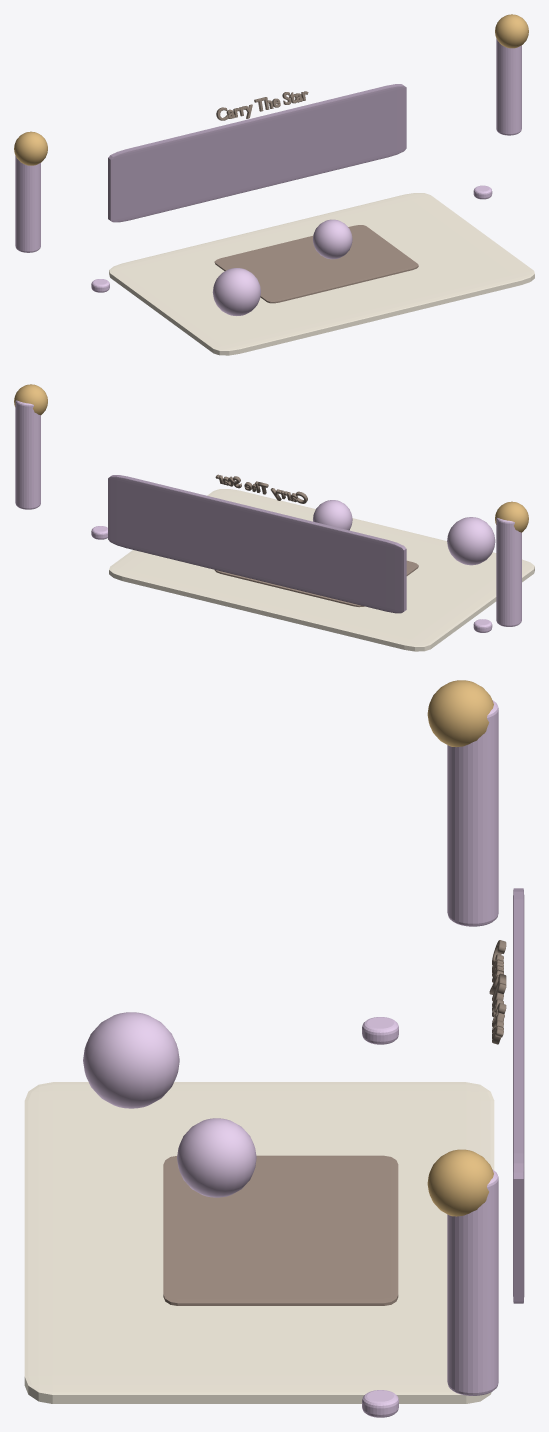
The model's file is 09_holdables.glb.
The picture shows the model from 3 angles, top to bottom: view 1: azimuth 30°, elevation 25°; view 2: azimuth 150°, elevation 25°; view 3: azimuth 270°, elevation 25°; orthographic projection. The views are drawn at different scales.
Parts seen in each view (by area): view 1: PaperFloor-col, BackCard, StageMat, PaperLantern, PaperLantern.001, FpeRushPlayer, CarryStar-rigid, LanternGlow, LanternGlow.001, TitleLabel; view 2: BackCard, PaperFloor-col, PaperLantern.001, PaperLantern, FpeRushPlayer, CarryStar-rigid, TitleLabel, LanternGlow, LanternGlow.001, StageMat; view 3: PaperFloor-col, StageMat, PaperLantern, PaperLantern.001, FpeRushPlayer, CarryStar-rigid, BackCard, LanternGlow.001, LanternGlow, TitleLabel, CardConfetti, CardConfetti.001.
Boxes of the visible parts, bbox=[...] form: PaperFloor-col: bbox=[109, 193, 534, 355]; BackCard: bbox=[108, 84, 406, 222]; StageMat: bbox=[214, 225, 418, 303]; PaperLantern: bbox=[15, 155, 40, 252]; PaperLantern.001: bbox=[496, 38, 521, 135]; FpeRushPlayer: bbox=[212, 268, 260, 315]; CarryStar-rigid: bbox=[313, 219, 352, 259]; LanternGlow: bbox=[14, 131, 47, 165]; LanternGlow.001: bbox=[495, 14, 528, 48]; TitleLabel: bbox=[216, 91, 308, 120]; BackCard: bbox=[108, 475, 406, 613]; PaperFloor-col: bbox=[109, 489, 534, 651]; PaperLantern.001: bbox=[15, 400, 40, 509]; PaperLantern: bbox=[496, 518, 521, 626]; FpeRushPlayer: bbox=[447, 517, 495, 565]; CarryStar-rigid: bbox=[313, 500, 352, 530]; TitleLabel: bbox=[215, 474, 307, 503]; LanternGlow: bbox=[495, 501, 528, 532]; LanternGlow.001: bbox=[14, 384, 47, 415]; StageMat: bbox=[214, 560, 418, 607]; PaperFloor-col: bbox=[24, 1082, 494, 1403]; StageMat: bbox=[163, 1155, 398, 1305]; PaperLantern: bbox=[447, 700, 498, 926]; PaperLantern.001: bbox=[447, 1169, 498, 1395]; FpeRushPlayer: bbox=[83, 1012, 179, 1108]; CarryStar-rigid: bbox=[177, 1118, 256, 1197]; BackCard: bbox=[513, 888, 524, 1303]; LanternGlow.001: bbox=[427, 1149, 493, 1216]; LanternGlow: bbox=[427, 680, 493, 747]; TitleLabel: bbox=[489, 940, 506, 1044]; CardConfetti: bbox=[362, 1017, 398, 1044]; CardConfetti.001: bbox=[362, 1390, 398, 1417].
Bounding box in the file's own units: 8.28 × 2.56 × 3.51.
